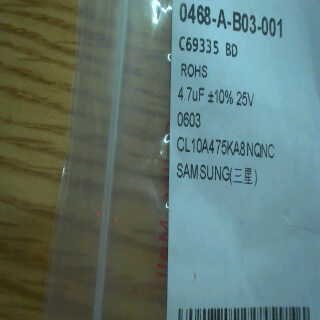4.7uF: (171, 86, 207, 104)
